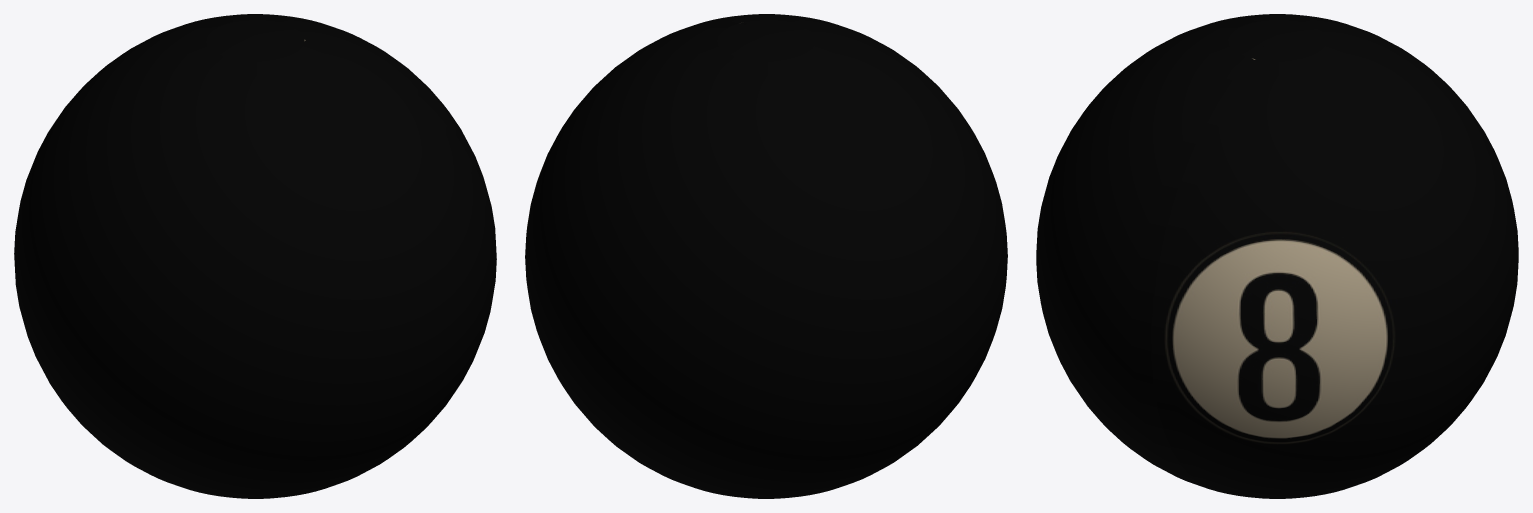
Rendered from 8ball.glb.
The picture shows the model from 3 angles, left to right: view 1: azimuth 30°, elevation 25°; view 2: azimuth 150°, elevation 25°; view 3: azimuth 270°, elevation 25°; orthographic projection.
Visible parts, largest first — view 1: 8ball; view 2: 8ball; view 3: 8ball.
Boxes of the visible parts, bbox=[...] form: 8ball: bbox=[14, 14, 496, 498]; 8ball: bbox=[525, 14, 1007, 498]; 8ball: bbox=[1036, 14, 1518, 498].
Size of the model in its own units: 1.97 by 2 by 1.97.
Materials: 1 (1 with a texture image).
